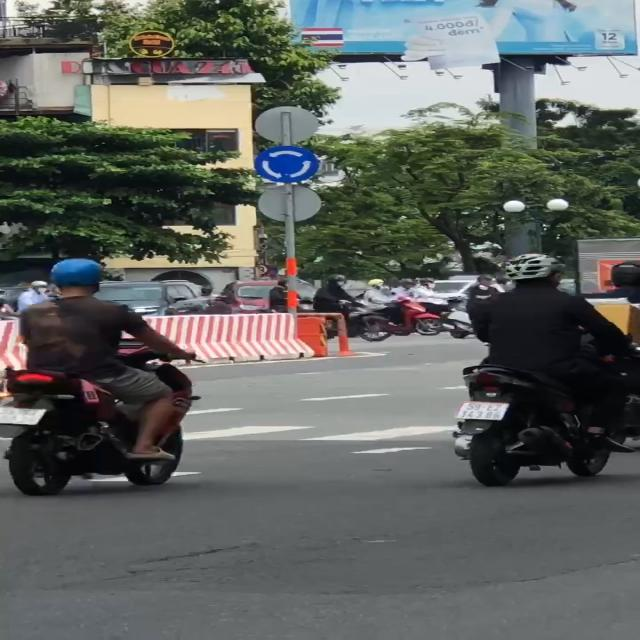Bien bao noi giao nhau chay theo vong xuyen: (249, 144, 325, 185)
